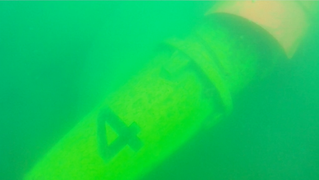4: (96, 106, 143, 161)
leak: (203, 1, 319, 61)
pipe: (23, 15, 285, 180)
